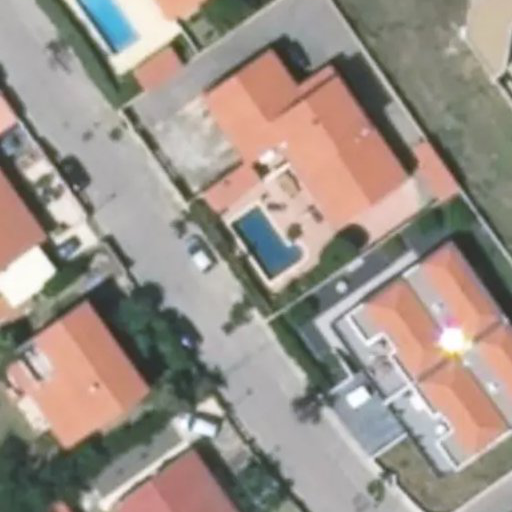pool: (218, 224, 293, 261)
